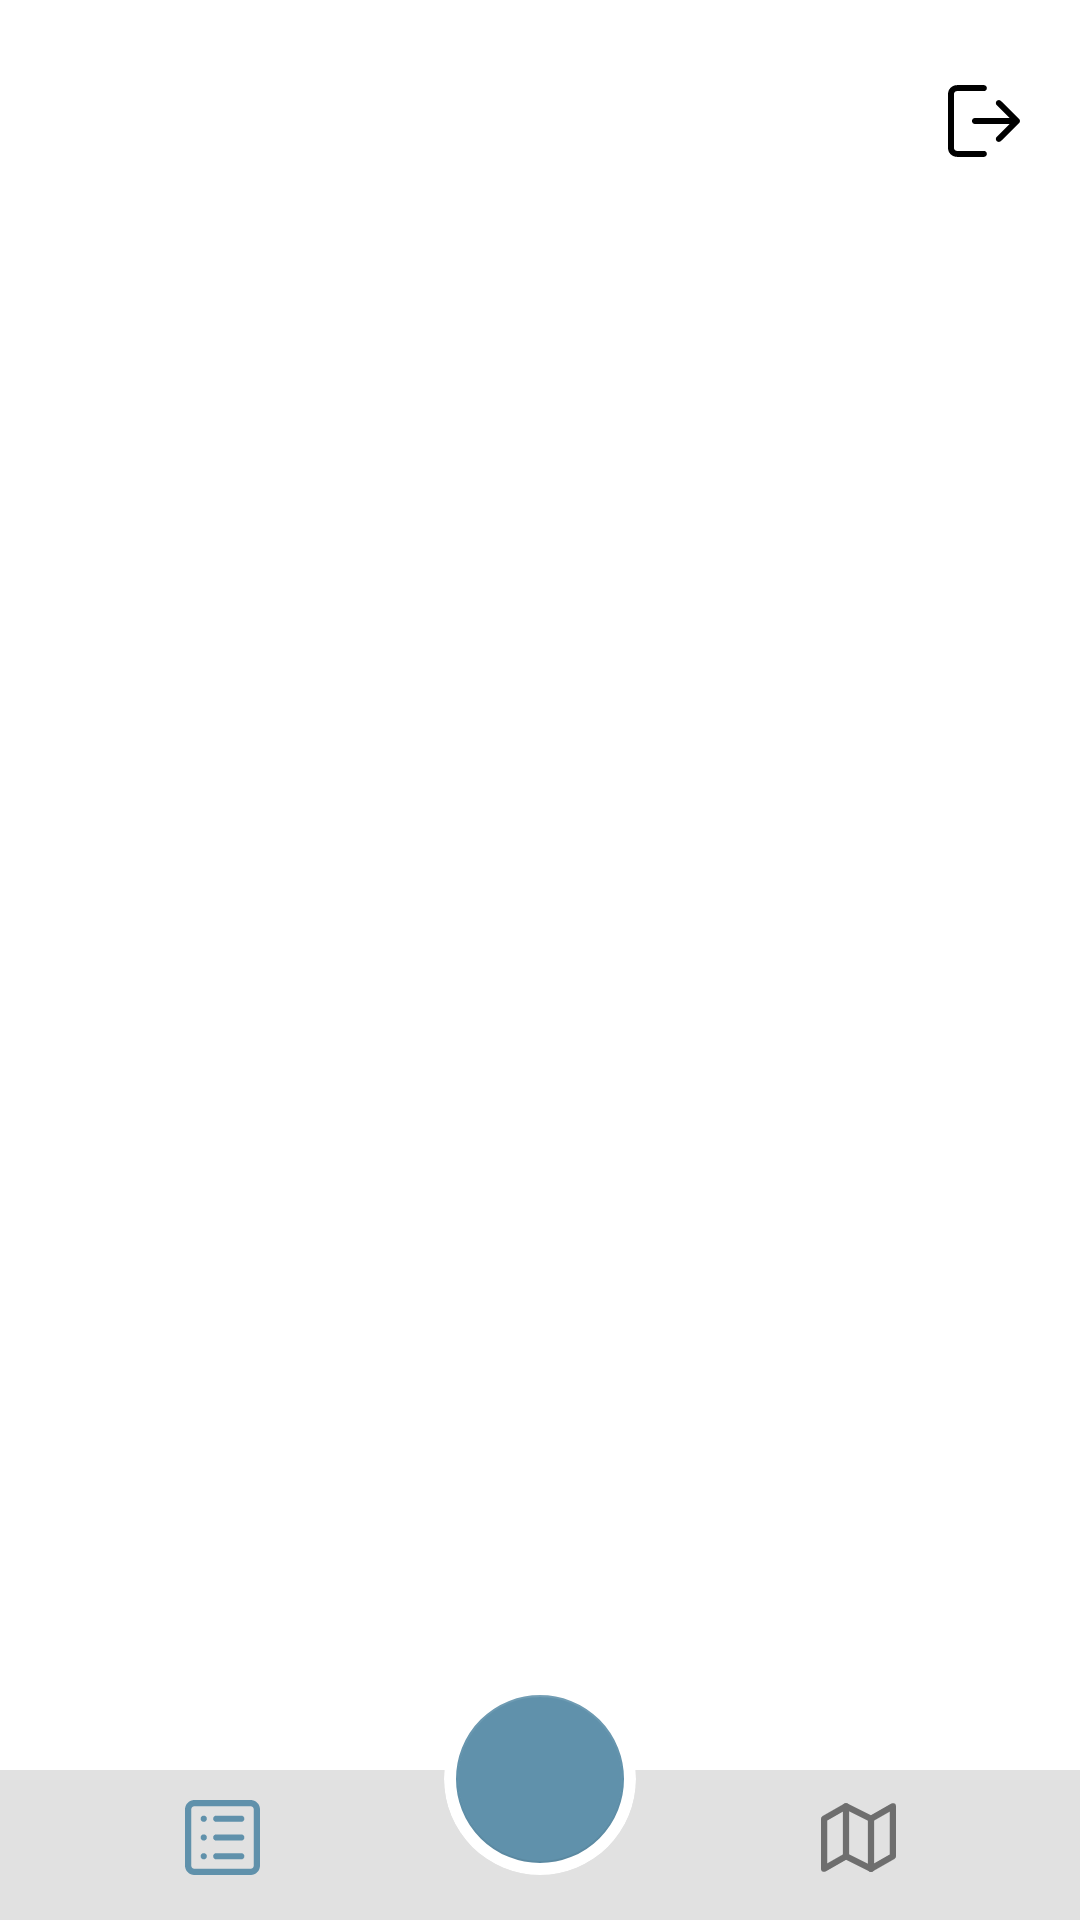

Icon click points for this 1080 × 1920 phone screenshot, format (x,y):
list: (222,1837)
map: (858,1837)
